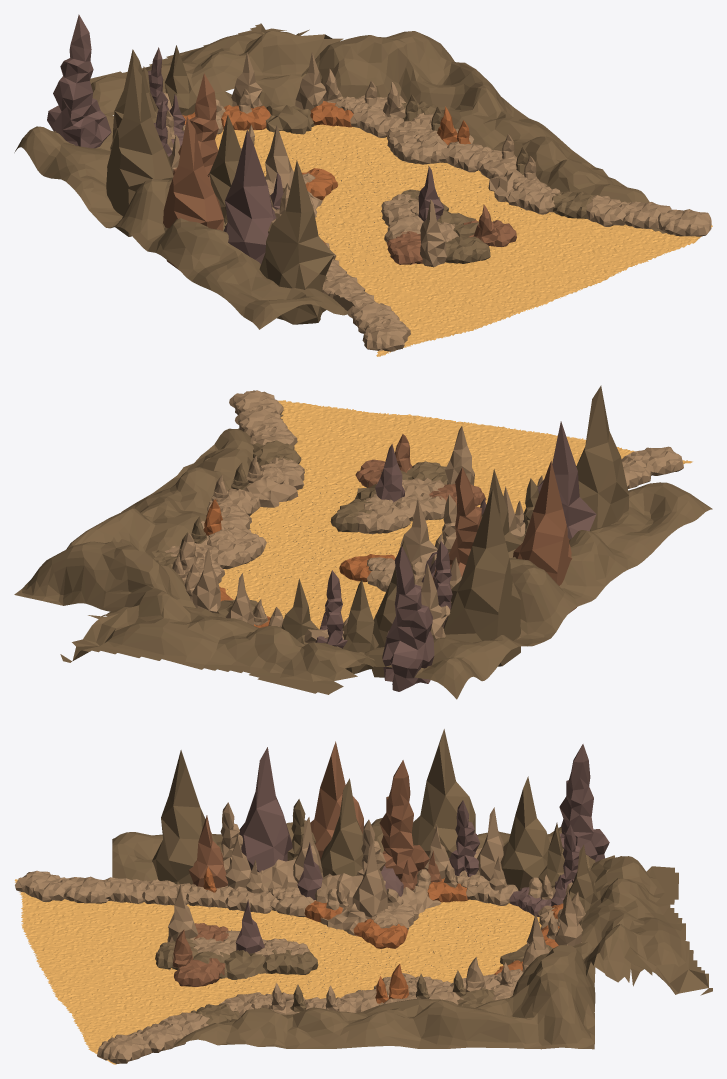
File: карта4 доделка.fbx
3 views of the same model, one above another, from view 1: azimuth 30°, elevation 25°; view 2: azimuth 150°, elevation 25°; view 3: azimuth 270°, elevation 25° (orthographic). The views are drawn at different scales.
Parts seen in each view (by area): view 1: Плоскость.009, Плоскость.008, высокий камень.392, высокий камень.393, Cube.669, высокий камень.390, высокий камень.391, Cube.670, высокий камень.388, низкий камень.1115, низкий камень.1117, высокий камень.381 (+29 smaller); view 2: Плоскость.009, Плоскость.008, высокий камень.393, Cube.669, высокий камень.392, высокий камень.391, высокий камень.390, Cube.670, высокий камень.384, Cube.696, высокий камень.389, низкий камень.1045 (+30 smaller); view 3: Плоскость.008, Плоскость.009, высокий камень.392, высокий камень.393, высокий камень.390, Cube.670, высокий камень.389, Cube.669, высокий камень.388, высокий камень.391, высокий камень.379, высокий камень.383 (+39 smaller).
Part boxes in pixels (x1,y1,x2,y2): Плоскость.009: (14, 23, 674, 329); Плоскость.008: (215, 124, 712, 356); высокий камень.392: (259, 160, 334, 324); высокий камень.393: (106, 63, 173, 236); Cube.669: (47, 14, 111, 148); высокий камень.390: (223, 129, 276, 264); высокий камень.391: (163, 117, 223, 270); Cube.670: (173, 73, 218, 183); высокий камень.388: (209, 114, 241, 223); низкий камень.1115: (658, 209, 711, 236); низкий камень.1117: (362, 317, 410, 351); высокий камень.381: (165, 45, 197, 115); Плоскость.009: (14, 414, 712, 699); Плоскость.008: (218, 400, 692, 629); высокий камень.393: (443, 488, 520, 666); Cube.669: (382, 546, 434, 691); высокий камень.392: (576, 385, 628, 530); высокий камень.391: (513, 461, 576, 613); высокий камень.390: (523, 421, 596, 539); Cube.670: (448, 467, 481, 576); высокий камень.384: (342, 579, 378, 673); Cube.696: (315, 570, 347, 648); высокий камень.389: (371, 539, 415, 677); низкий камень.1045: (354, 504, 410, 534); Плоскость.008: (14, 879, 541, 1064); Плоскость.009: (112, 818, 712, 1049); высокий камень.392: (152, 750, 216, 884); высокий камень.393: (411, 729, 475, 857); высокий камень.390: (239, 747, 292, 872); Cube.670: (379, 760, 429, 886); высокий камень.389: (500, 776, 550, 890); Cube.669: (559, 744, 609, 862); высокий камень.388: (320, 778, 363, 877); высокий камень.391: (310, 741, 363, 859); высокий камень.379: (352, 841, 387, 919); высокий камень.383: (188, 815, 227, 888).
Size of the model in its own units: 23849 by 8089 by 32040.
